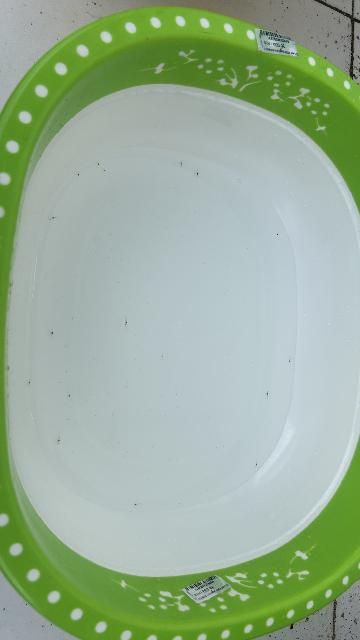benur: (124, 315, 129, 326), (49, 217, 58, 221), (161, 353, 165, 361), (180, 161, 183, 169), (50, 330, 54, 336), (28, 379, 32, 385), (237, 178, 241, 183), (102, 168, 107, 172), (133, 503, 139, 506), (196, 171, 199, 177), (98, 161, 101, 167), (68, 393, 71, 398), (266, 391, 269, 396), (276, 232, 279, 237), (77, 172, 80, 177), (58, 437, 60, 444), (255, 462, 257, 467), (288, 359, 290, 363)
